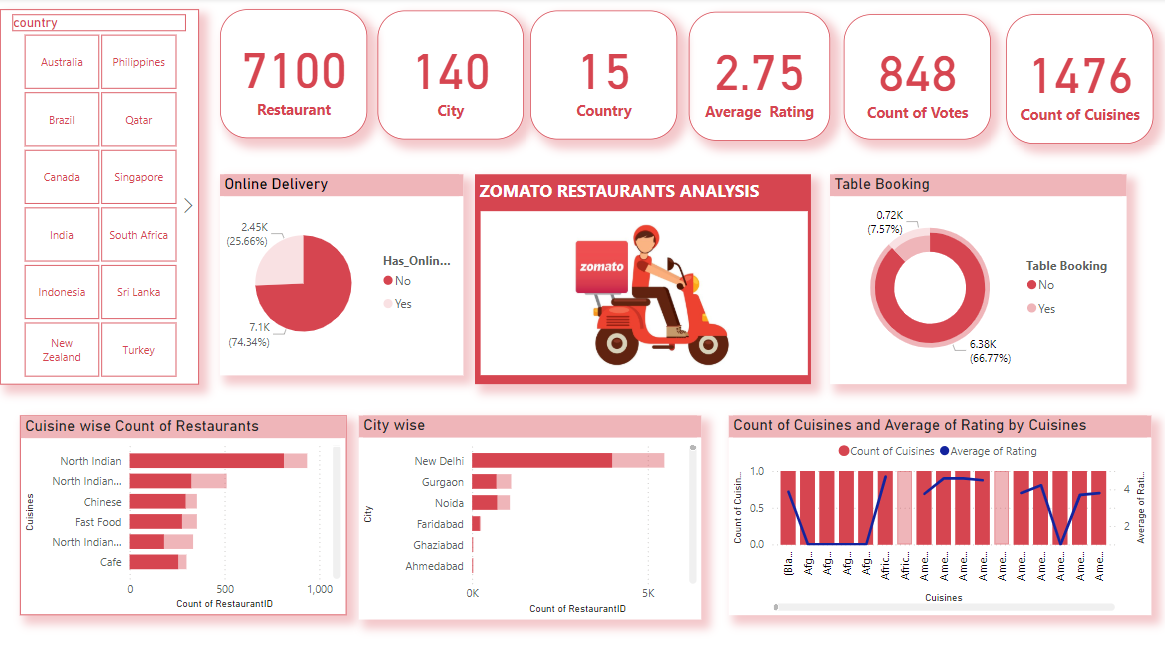

The page's visual inventory and layout, read from the dashboard file:
{"tool":"powerbi","page":{"name":"Page 1","canvas":[1280,720],"ordinal":0},"visuals":[{"type":"card","title":"#","fields":{"Values":["Count(Sheet1.City)"]},"box":[414.4,13.7,160.5,141.3],"z":0},{"type":"card","fields":{"Values":["Count(Sheet1.RestaurantID)"]},"box":[241.5,12.3,161.9,141.3],"z":1000},{"type":"card","title":"#","fields":{"Values":["Avg(Sheet1.Rating)"]},"box":[756.1,15.1,155.1,141.3],"z":2000},{"type":"card","title":"#","fields":{"Values":["Count(Sheet1.CountryCode)"]},"box":[581.8,13.7,161.9,141.3],"z":3000},{"type":"card","title":"#","fields":{"Values":["Count(Sheet1.Votes)"]},"box":[926.2,17.8,161.9,137.2],"z":4000},{"type":"card","title":"#","fields":{"Values":["Count(Sheet1.Cuisines)"]},"box":[1104.6,17.8,161.9,142.7],"z":5000},{"type":"slicer","fields":{"Values":["Sheet2.country name"]},"box":[0,12.3,218.2,411.7],"z":6000},{"type":"lineStackedColumnComboChart","title":"Count of Cuisines and Average of Rating by Cuisines","fields":{"Category":["Sheet1.Cuisines"],"Y":["Count(Sheet1.Cuisines)"],"Y2":["Avg(Sheet1.Rating)"]},"box":[800,458.3,463.8,219.6],"z":7000},{"type":"clusteredBarChart","title":"Cuisine wise Count of Restaurants","fields":{"Category":["Sheet1.Cuisines"],"Y":["Count(Sheet1.RestaurantID)"]},"box":[22,458.3,358.1,219.6],"z":8000},{"type":"pieChart","title":"Online Delivery","fields":{"Category":["Sheet1.Has_Online_delivery"],"Y":["CountNonNull(Sheet1.RestaurantID)"]},"box":[241.5,193.5,267.6,220.9],"z":9000},{"type":"donutChart","title":"Table Booking","fields":{"Category":["Sheet1.Has_Table_booking"],"Y":["CountNonNull(Sheet1.RestaurantID)"]},"box":[911.2,193.5,325.2,230.5],"z":10000},{"type":"clusteredBarChart","title":"City wise","fields":{"Category":["Sheet1.City"],"Y":["CountNonNull(Sheet1.RestaurantID)"]},"box":[393.8,458.3,376,223.7],"z":11000},{"type":"textbox","box":[521.4,193.5,369.1,230.5],"z":11003},{"type":"image","box":[522.8,108.4,369.1,430.9],"z":11004}]}

Visuals, with their boxes in screenshot pixels (x1, y1, x2, y2), scaled from the page's 1280x720 canvas onto the 1165x647 screenshot:
"#" card: BBox(377, 12, 523, 139)
card - Count(Sheet1.RestaurantID): BBox(220, 11, 367, 138)
"#" card: BBox(688, 14, 829, 141)
"#" card: BBox(530, 12, 677, 139)
"#" card: BBox(843, 16, 990, 139)
"#" card: BBox(1005, 16, 1153, 144)
slicer - Sheet2.country name: BBox(0, 11, 199, 381)
"Count of Cuisines and Average of Rating by Cuisines" lineStackedColumnComboChart: BBox(728, 412, 1150, 609)
"Cuisine wise Count of Restaurants" clusteredBarChart: BBox(20, 412, 346, 609)
"Online Delivery" pieChart: BBox(220, 174, 463, 372)
"Table Booking" donutChart: BBox(829, 174, 1125, 381)
"City wise" clusteredBarChart: BBox(358, 412, 701, 613)
textbox: BBox(475, 174, 810, 381)
image: BBox(476, 97, 812, 485)
